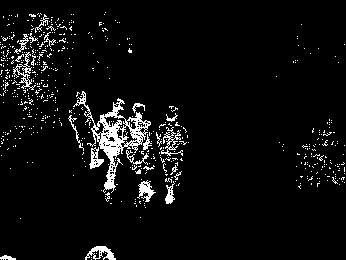person: (125, 98, 159, 208), (68, 88, 99, 172), (166, 101, 189, 208), (105, 93, 123, 201)
